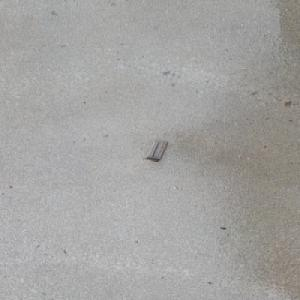MetalPart: (142, 140, 169, 162)
